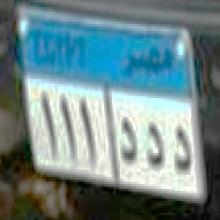1: (80, 97, 102, 168), (59, 93, 77, 167), (41, 91, 57, 160)
daal: (144, 118, 166, 176), (171, 123, 194, 176), (119, 116, 138, 167)
